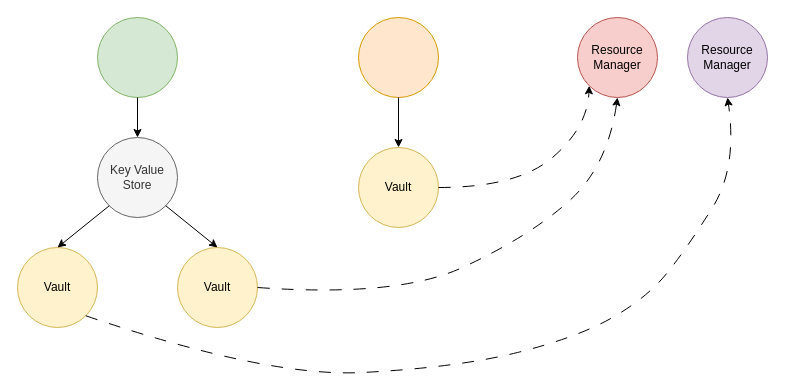
Some shapes in this 785 by 391 pixel diagram are drawn without their labels. Here are the shapes that lost their labels. From the top down, the centre of each, then its label:
At (x=137, y=57): "Account".
At (x=398, y=57): "Radiswap".
